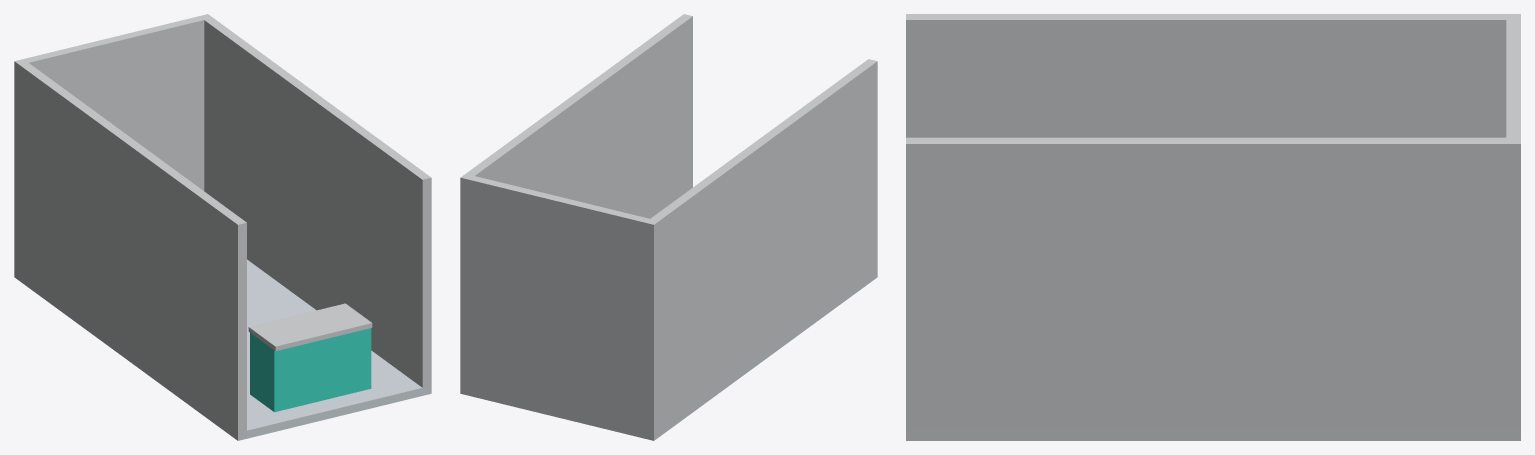
The picture shows the model from 3 angles, left to right: view 1: azimuth 30°, elevation 25°; view 2: azimuth 150°, elevation 25°; view 3: azimuth 270°, elevation 25°; orthographic projection. The views are drawn at different scales.
Visible parts, largest first — view 1: Exhibition Booth Concept; view 2: Exhibition Booth Concept; view 3: Exhibition Booth Concept.
Boxes of the visible parts, x1=… form: Exhibition Booth Concept: x1=14, y1=14, x2=431, y2=440; Exhibition Booth Concept: x1=460, y1=14, x2=877, y2=440; Exhibition Booth Concept: x1=906, y1=14, x2=1520, y2=440.
Size of the model in its own units: 3 by 3.2 by 6.
